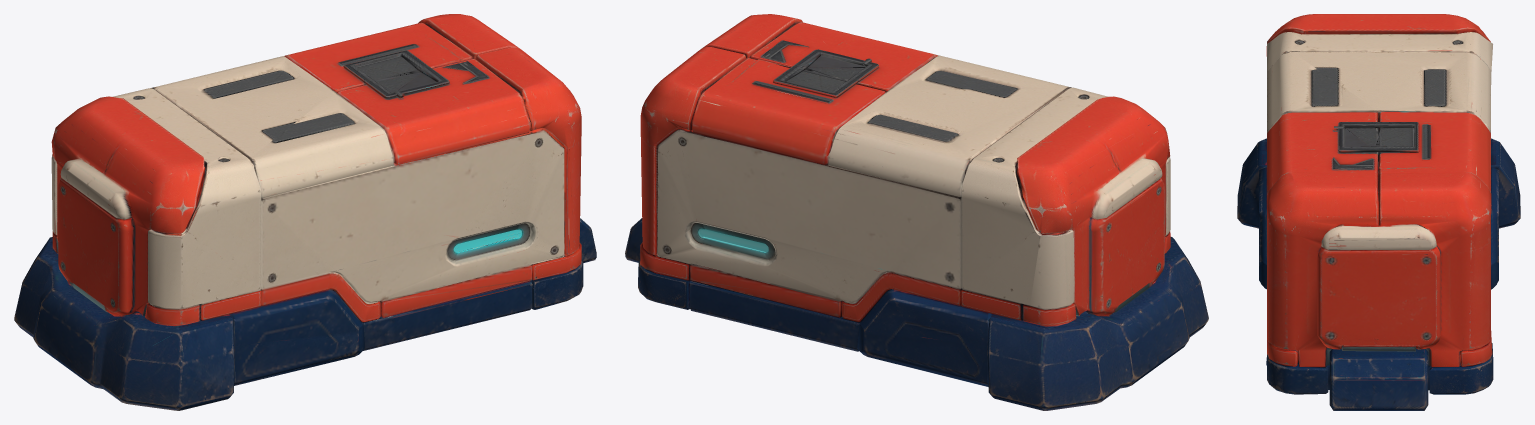
File: crate.glb
3 views of the same model, side by side, from view 1: azimuth 30°, elevation 25°; view 2: azimuth 150°, elevation 25°; view 3: azimuth 270°, elevation 25° (orthographic). The views are drawn at different scales.
Bounding box in the file's own units: 0.9536 × 0.3809 × 0.4937.
Materials: 1 (1 with a texture image).
